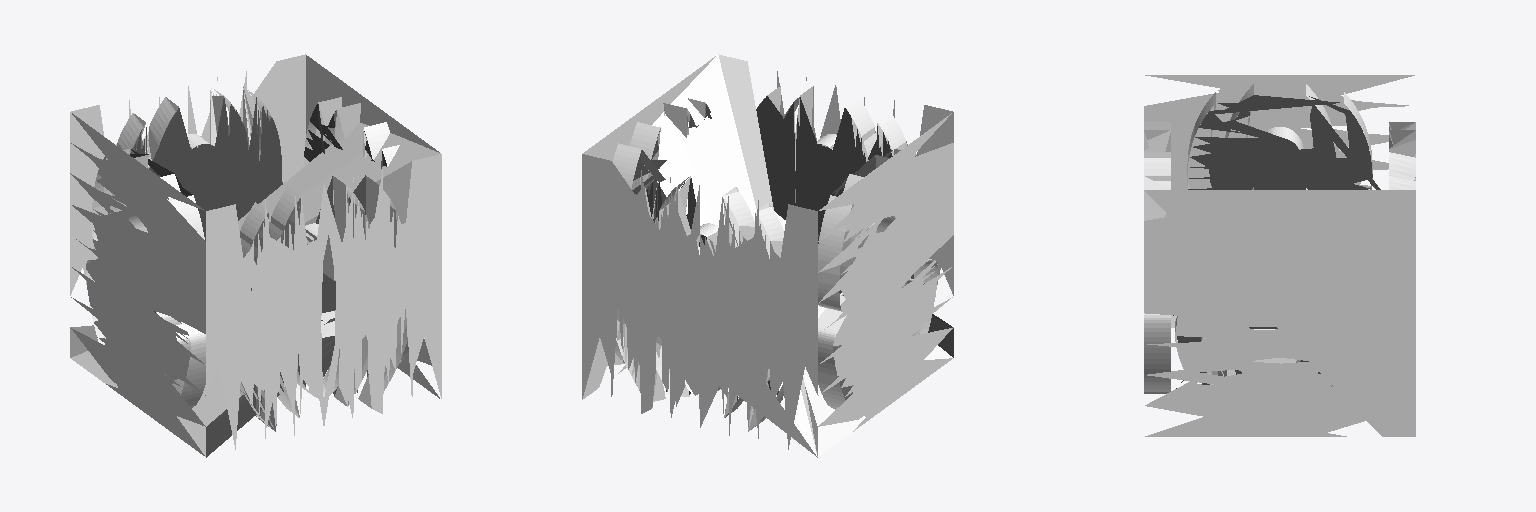
File: MaterialCube.obj
The picture shows the model from 3 angles: view 1: azimuth 30°, elevation 25°; view 2: azimuth 150°, elevation 25°; view 3: azimuth 270°, elevation 25°; orthographic projection.
Parts seen in each view (by area): view 1: Cube; view 2: Cube; view 3: Cube.
Boxes of the visible parts, x1=… form: Cube: x1=70, y1=54, x2=441, y2=457; Cube: x1=582, y1=54, x2=953, y2=457; Cube: x1=1144, y1=75, x2=1415, y2=436.
Bounding box in the file's own units: 1 × 1 × 1.